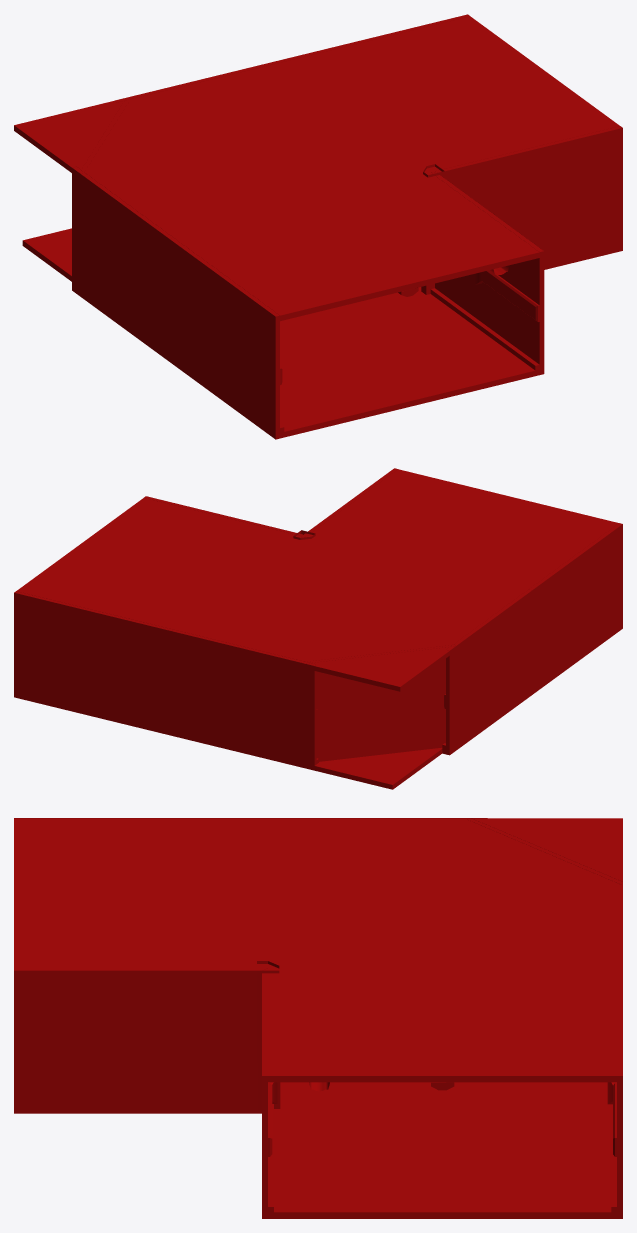
Rendered from PasilloL.fbx.
3 renders of one model, top to bottom at view 1: azimuth 30°, elevation 25°; view 2: azimuth 150°, elevation 25°; view 3: azimuth 270°, elevation 25°, orthographic. The views are drawn at different scales.
Visible parts, largest first — view 1: PasilloL1; view 2: PasilloL1; view 3: PasilloL1.
Part boxes in pixels (x1,y1,x2,y2): PasilloL1: (14,14,622,439); PasilloL1: (14,468,622,789); PasilloL1: (14,818,622,1218).
Size of the model in its own units: 2704 by 714 by 2700.
